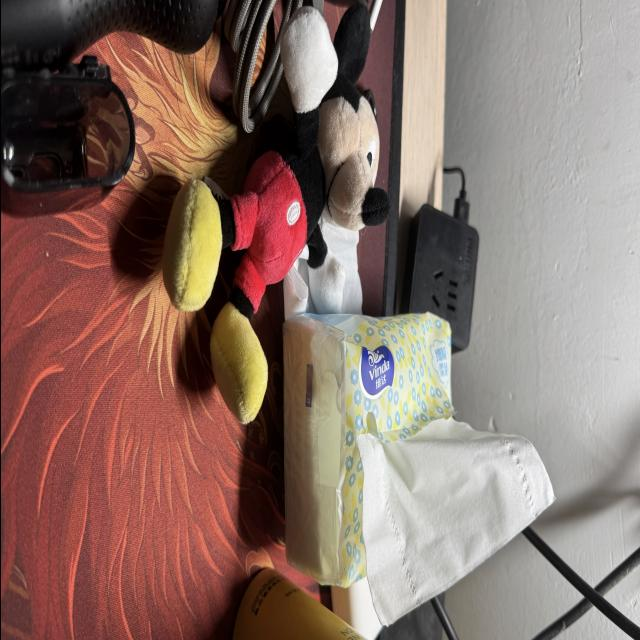mickey: (162, 5, 389, 423)
tissue: (283, 314, 452, 586), (356, 420, 553, 624)
